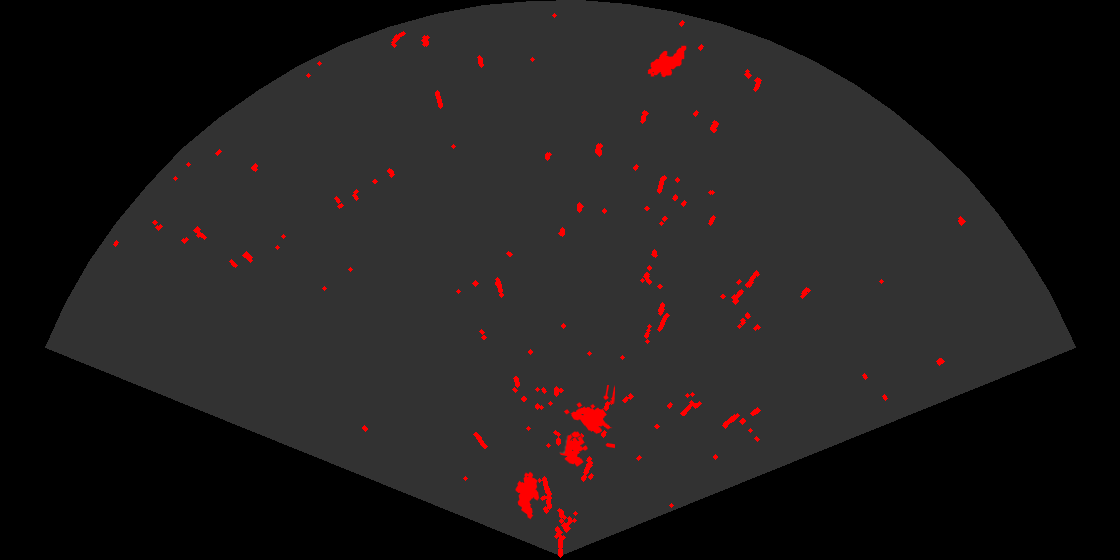AUV: (646, 44, 688, 79), (514, 470, 541, 521)
cage: (558, 385, 615, 468)
